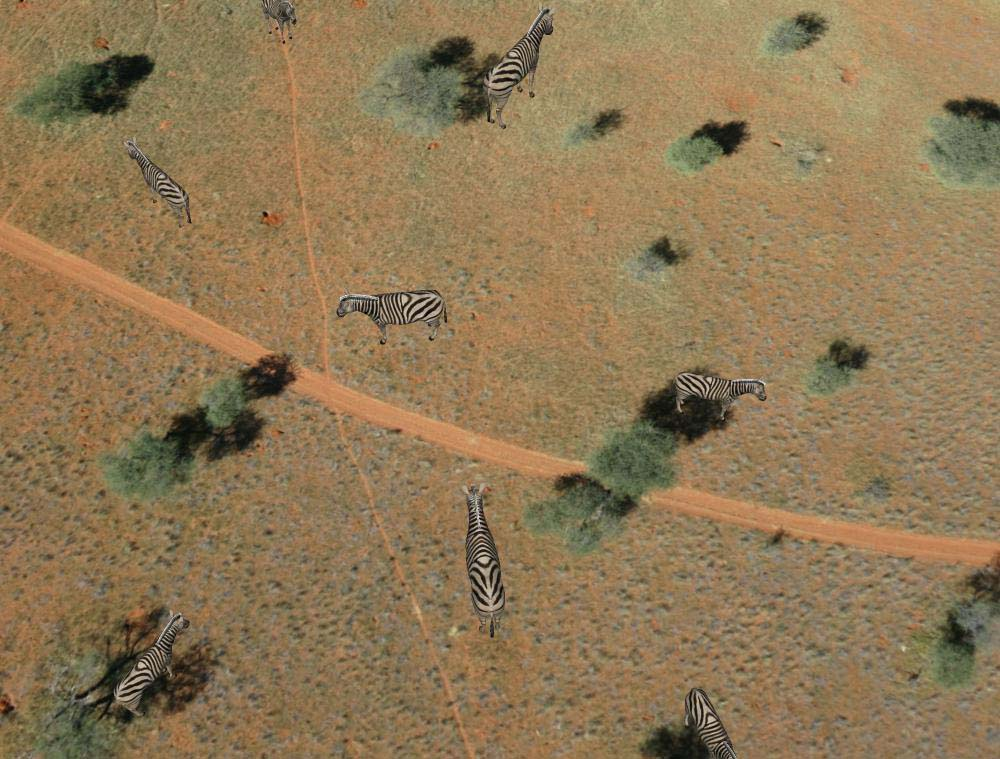zebra: (452, 485, 521, 635), (482, 4, 548, 134), (112, 612, 190, 715), (117, 139, 196, 227), (331, 288, 456, 343), (672, 365, 767, 427), (683, 689, 739, 759)
